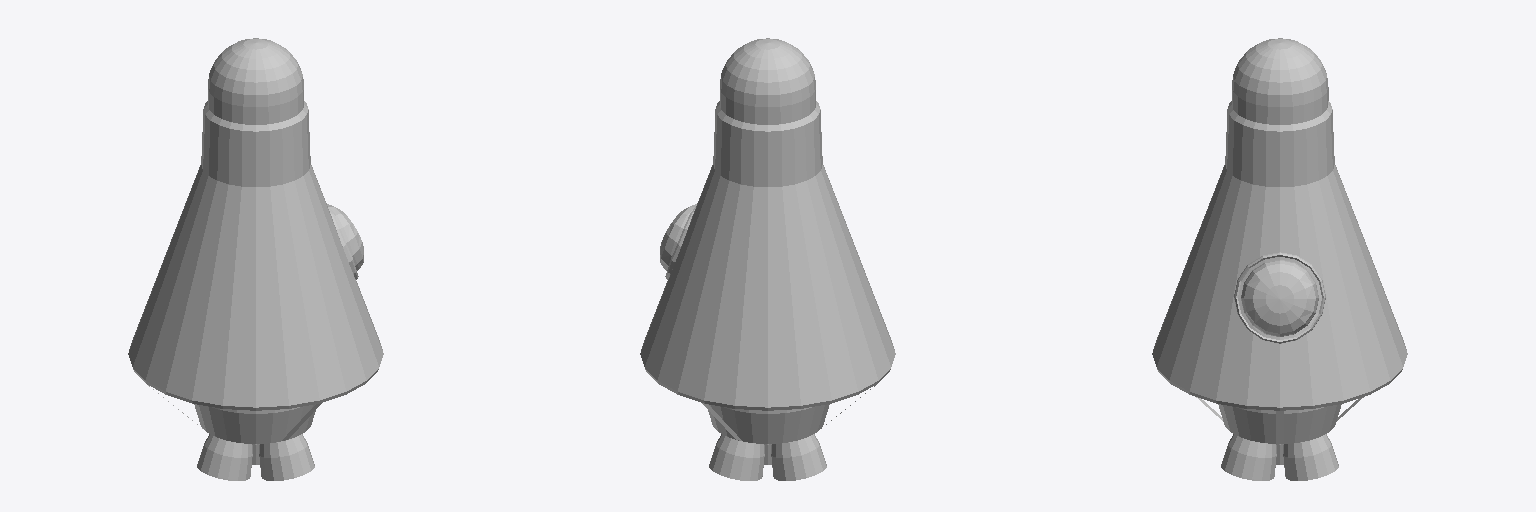
File: mercury_pod.obj
3 views of the same model, side by side, from view 1: azimuth 30°, elevation 25°; view 2: azimuth 150°, elevation 25°; view 3: azimuth 270°, elevation 25° (orthographic).
Parts seen in each view (by area): view 1: Circle, rocket.001_Sphere.000; view 2: Circle, rocket.001_Sphere.000; view 3: Circle, rocket.001_Sphere.000.
Boxes of the visible parts, box(x1,y1,x2,y2) form: Circle: box(128, 38, 383, 480); rocket.001_Sphere.000: box(327, 204, 363, 279); Circle: box(640, 38, 895, 480); rocket.001_Sphere.000: box(660, 204, 696, 279); Circle: box(1152, 38, 1407, 480); rocket.001_Sphere.000: box(1234, 252, 1325, 343).
Size of the model in its own units: 2.52 by 4.64 by 2.52.